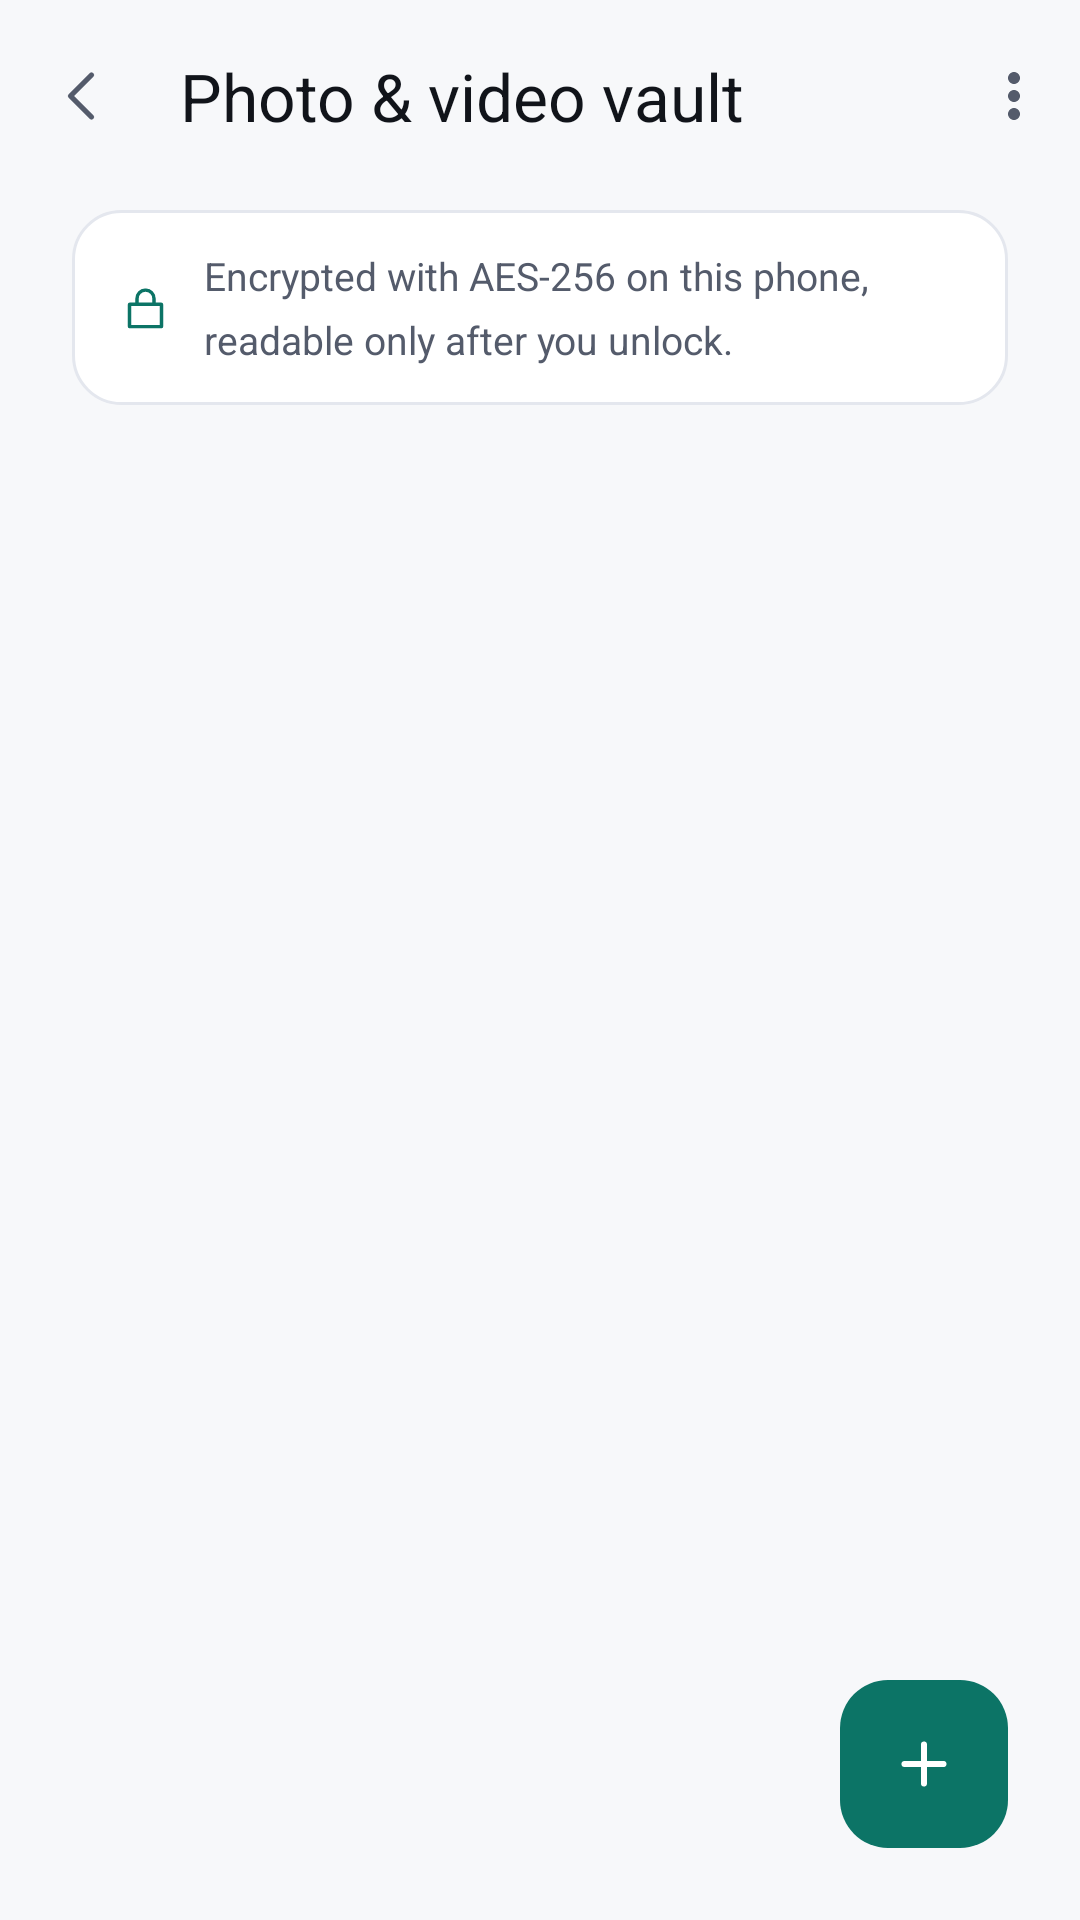

Icons on this 1080 × 1920 Android screen, each with the point to tap as (x,y):
Add media: (924,1764)
lock line: (145,308)
